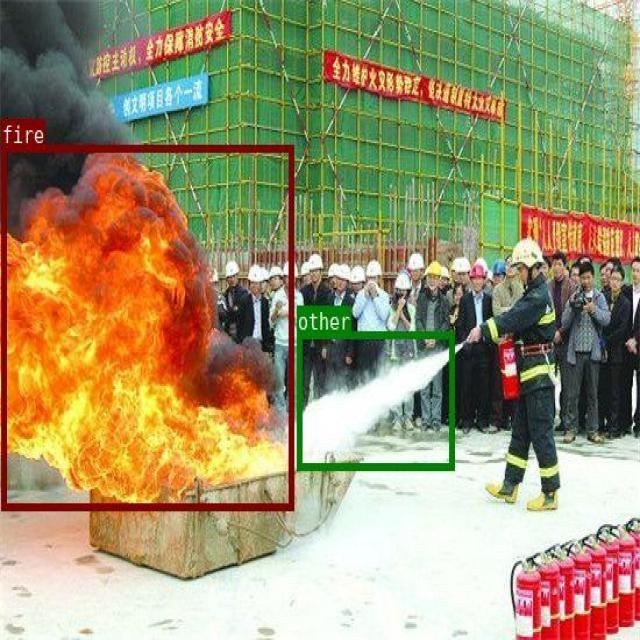fire: (1, 144, 293, 509)
